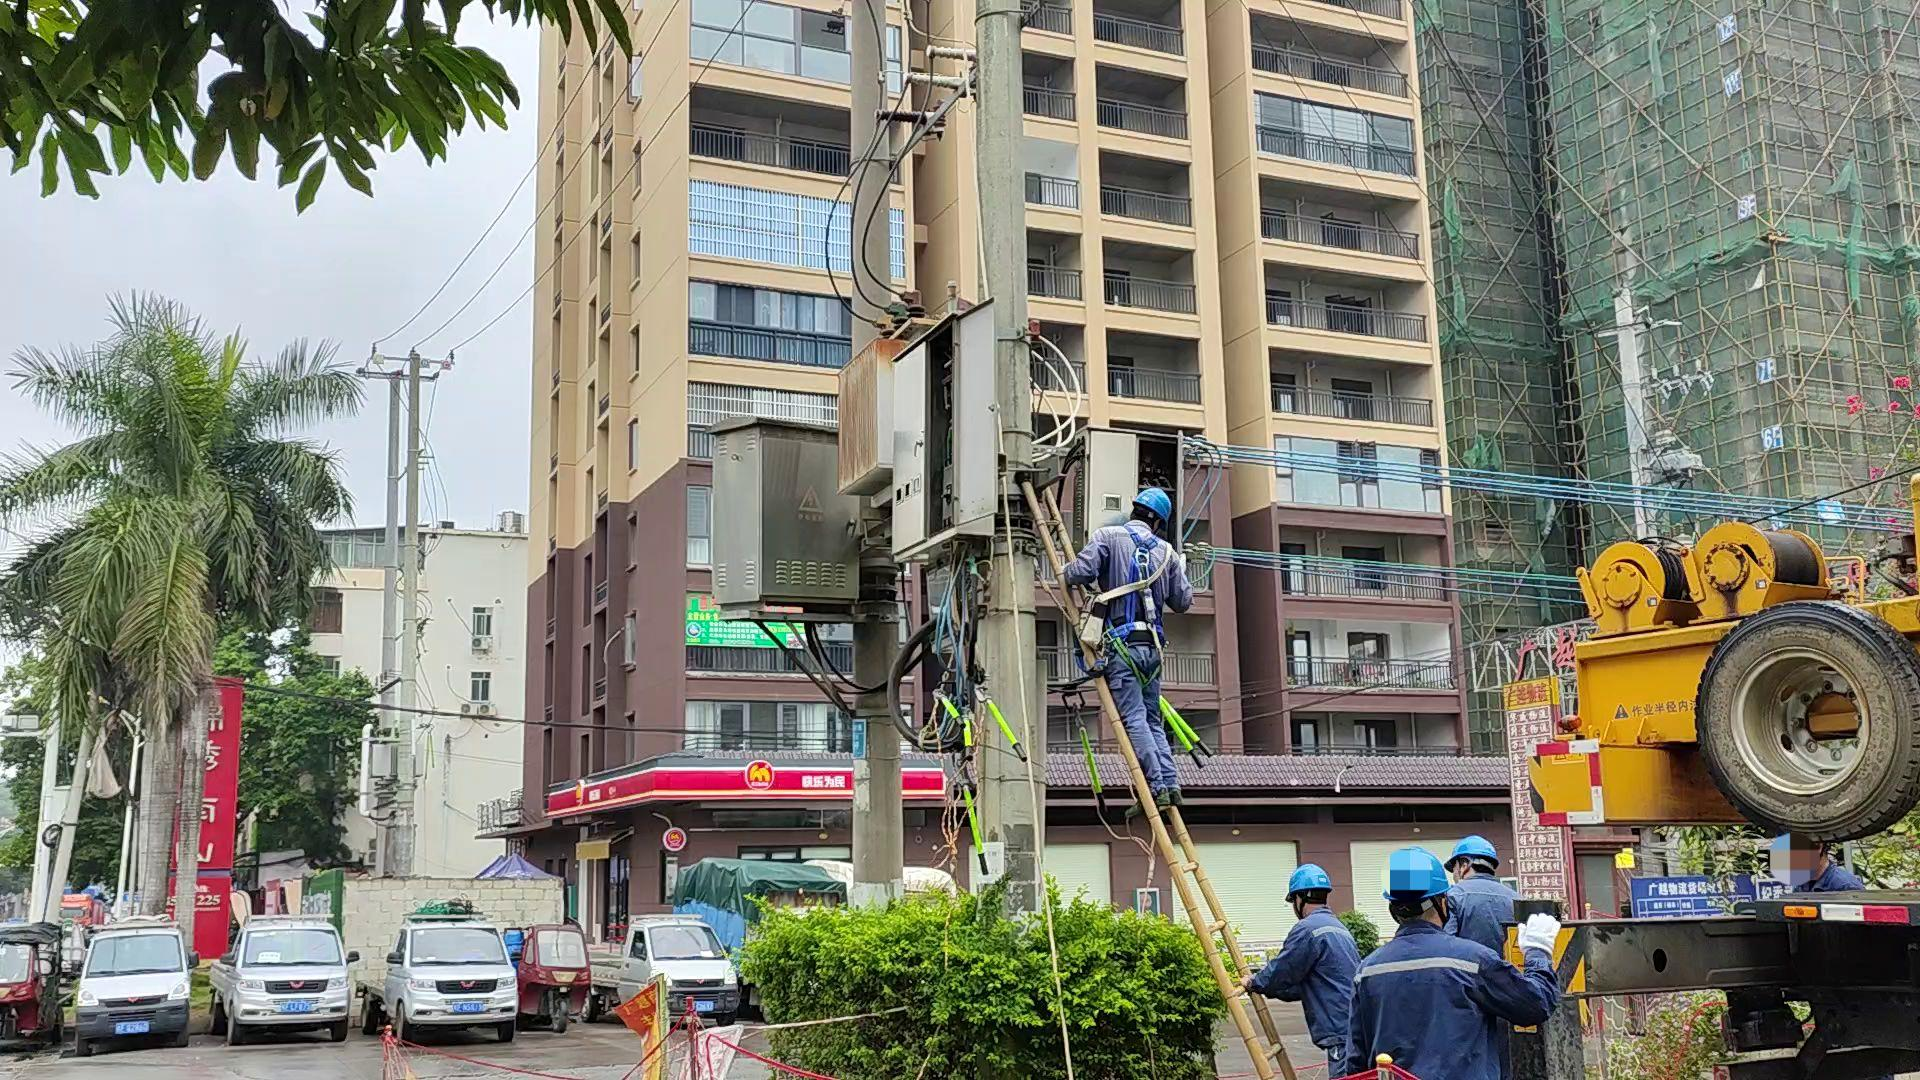halt: (1383, 851, 1455, 928), (1287, 866, 1337, 916), (1448, 839, 1502, 882), (1134, 488, 1175, 533)
